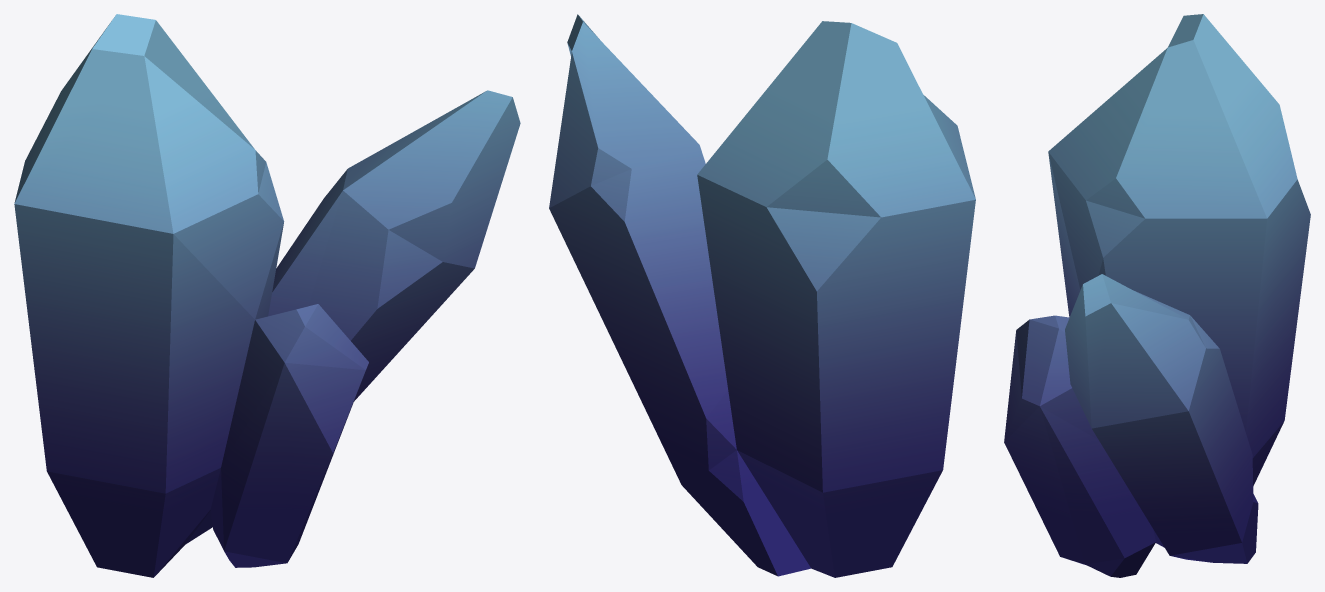
The model's file is Crystal_4.1.fbx.
3 views of the same model, side by side, from view 1: azimuth 30°, elevation 25°; view 2: azimuth 150°, elevation 25°; view 3: azimuth 270°, elevation 25° (orthographic). The views are drawn at different scales.
Visible parts, largest first — view 1: Crystal_02.1; view 2: Crystal_02.1; view 3: Crystal_02.1.
Boxes of the visible parts, box(x1,y1,x2,y2) form: Crystal_02.1: box(14, 14, 520, 577); Crystal_02.1: box(549, 14, 975, 577); Crystal_02.1: box(1004, 14, 1310, 577).
Bounding box in the file's own units: 32.56 × 36.84 × 19.79.
